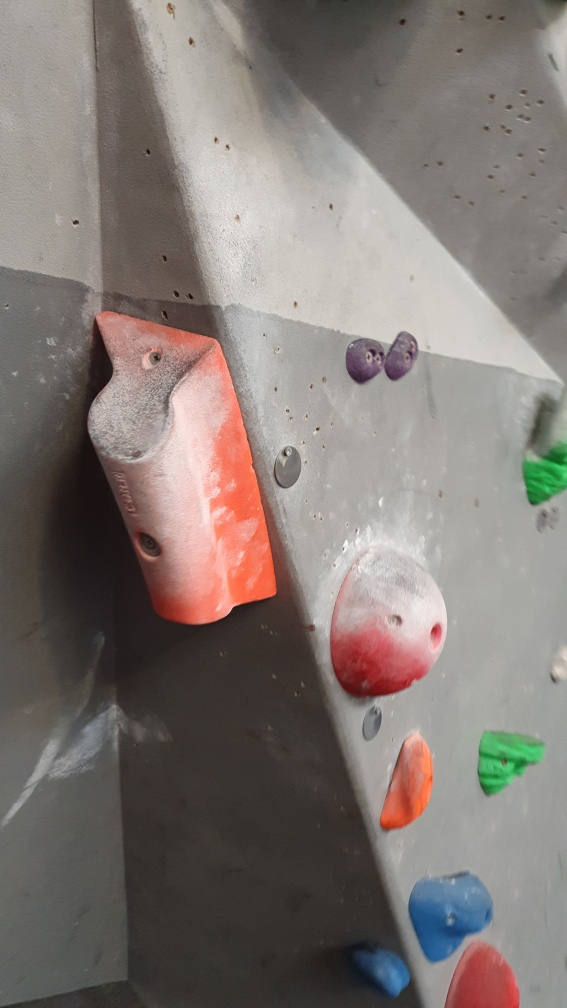Hand Start: (271, 442, 304, 490), (359, 704, 384, 738)
Jug: (519, 375, 567, 506), (477, 729, 547, 799)
Pinch: (84, 305, 281, 631), (345, 335, 387, 388), (384, 330, 422, 381)
Sloper: (330, 545, 452, 699), (443, 939, 522, 1007)
